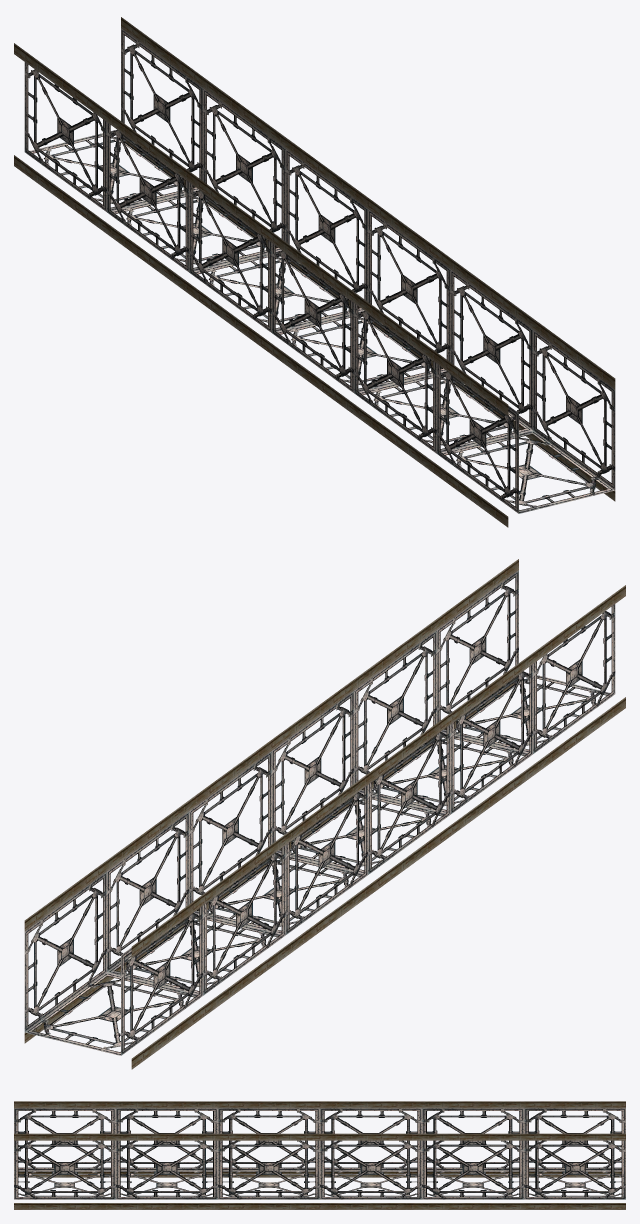
File: M11B_Girders01.glb
3 views of the same model, one above another, from view 1: azimuth 30°, elevation 25°; view 2: azimuth 150°, elevation 25°; view 3: azimuth 270°, elevation 25° (orthographic). The views are drawn at different scales.
Parts seen in each view (by area): view 1: M11B_GIRDERS01; view 2: M11B_GIRDERS01; view 3: M11B_GIRDERS01.
Boxes of the visible parts, bbox=[...] form: M11B_GIRDERS01: bbox=[14, 17, 615, 527]; M11B_GIRDERS01: bbox=[24, 559, 625, 1069]; M11B_GIRDERS01: bbox=[14, 1101, 625, 1209].
Size of the model in its own units: 2.2 by 2.2 by 16.
2 materials, 2 textured.
